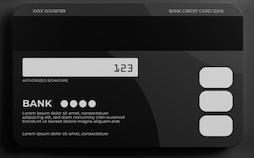payment_card: (14, 3, 241, 150)
